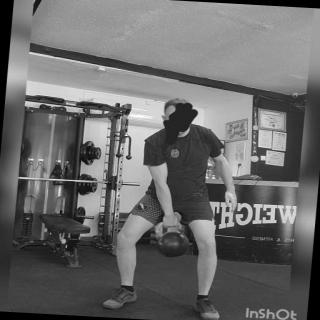kettlebell: (149, 213, 199, 263)
